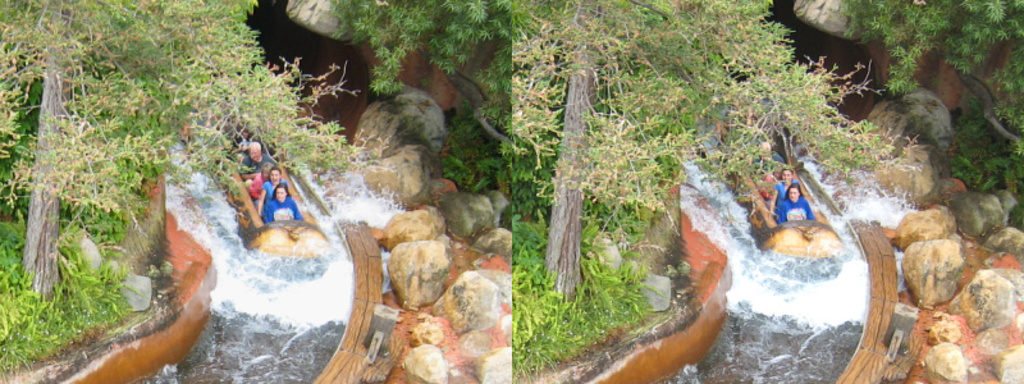Person: (775, 180, 818, 224), (262, 181, 302, 227), (235, 139, 276, 182), (257, 168, 288, 213), (769, 167, 800, 211), (757, 158, 786, 196), (247, 164, 275, 202)
